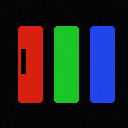4 line_v: (21, 49, 25, 73)
